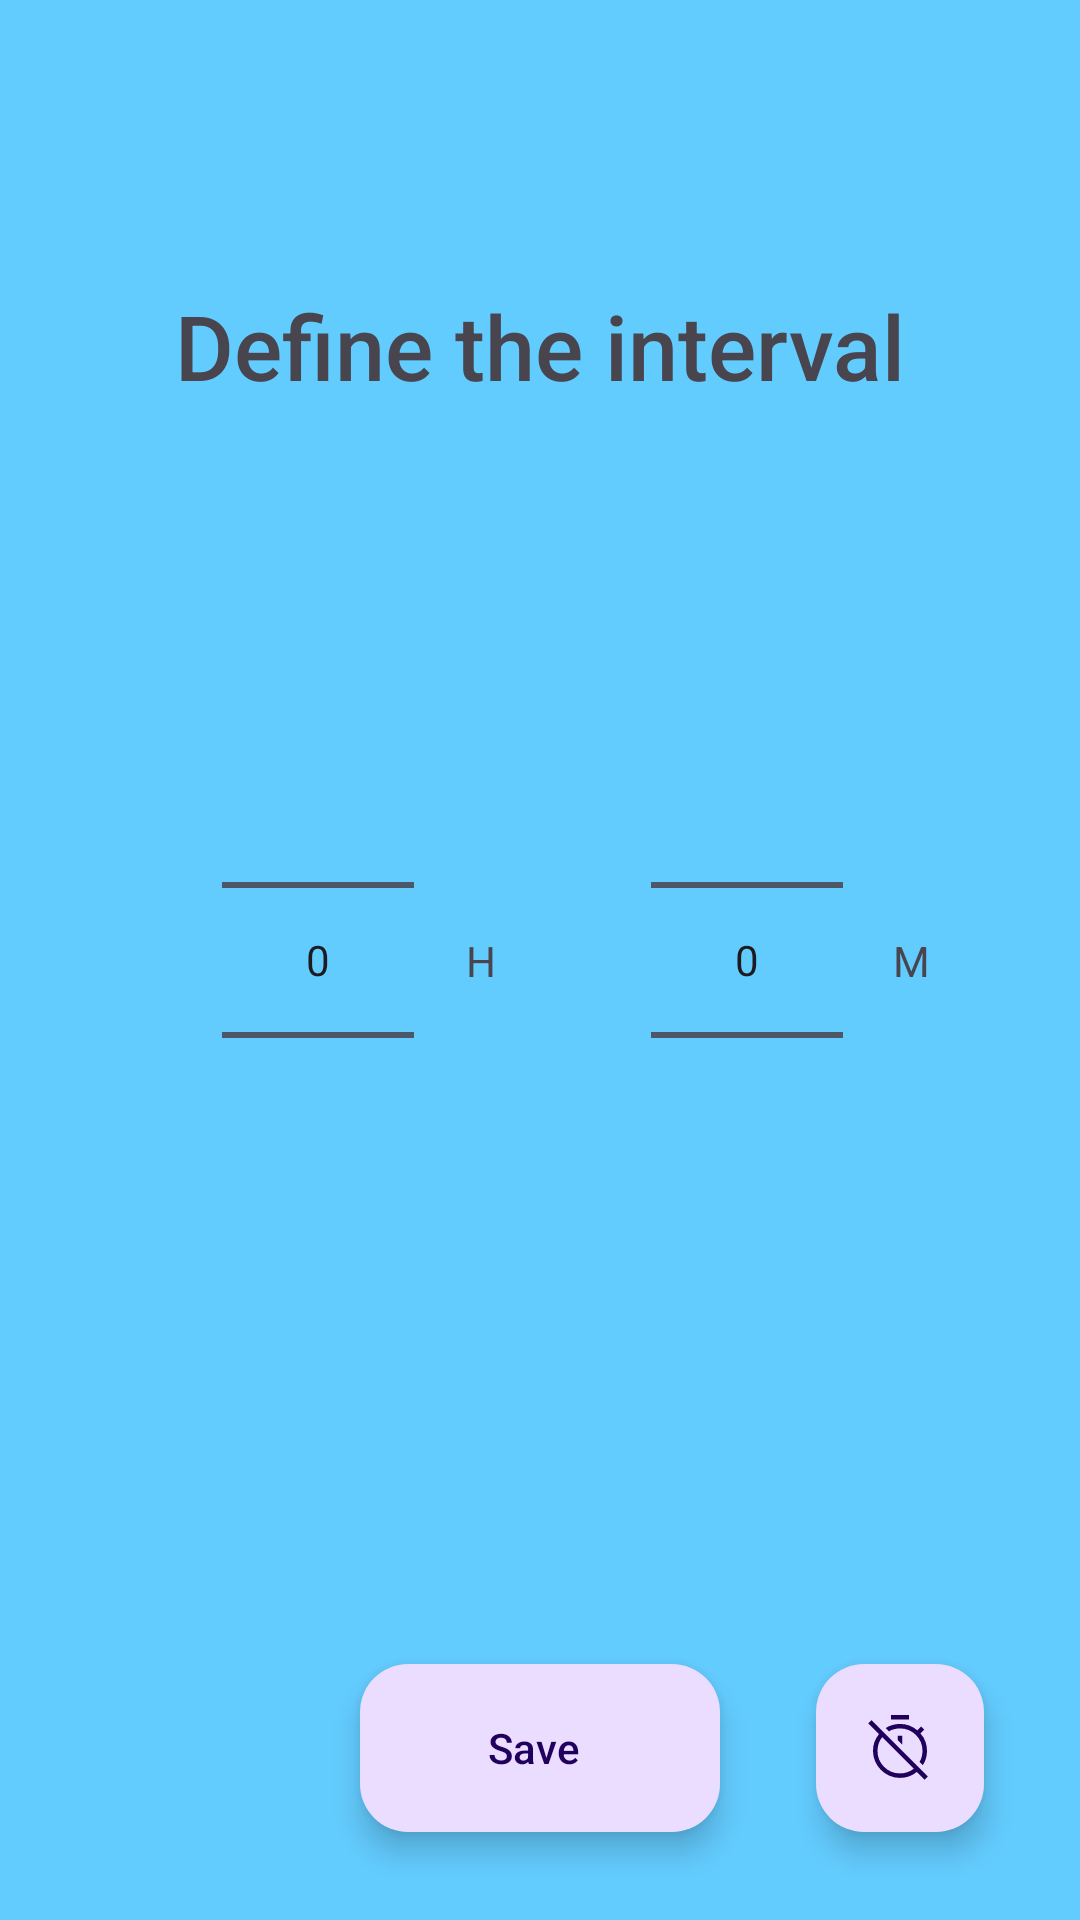

Named icons in this screenshot (1080 × 1920) and their bounding boxes, [left=x1, top=y1, right=x2, bottom=y2]:
Cancel alarm: [left=816, top=1664, right=984, bottom=1832]
